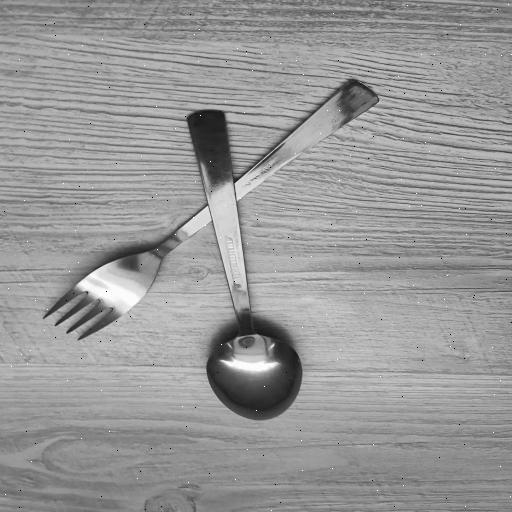fork: (38, 85, 376, 345)
spoon: (194, 106, 306, 424)
